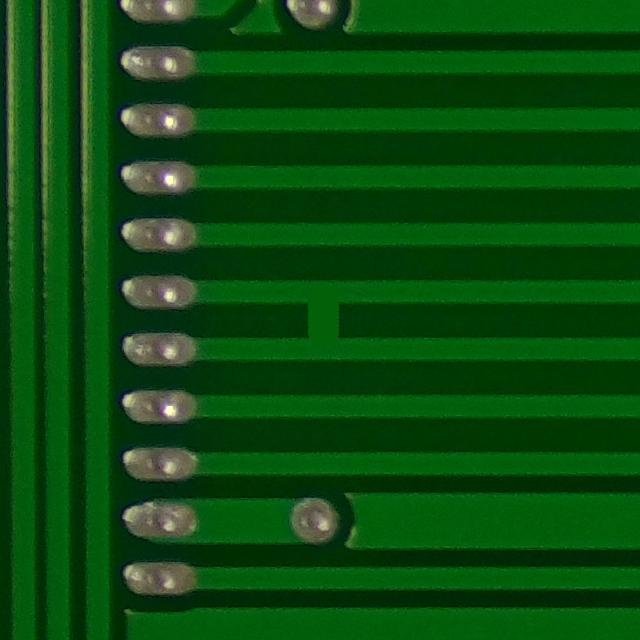short: (277, 274, 363, 366)
